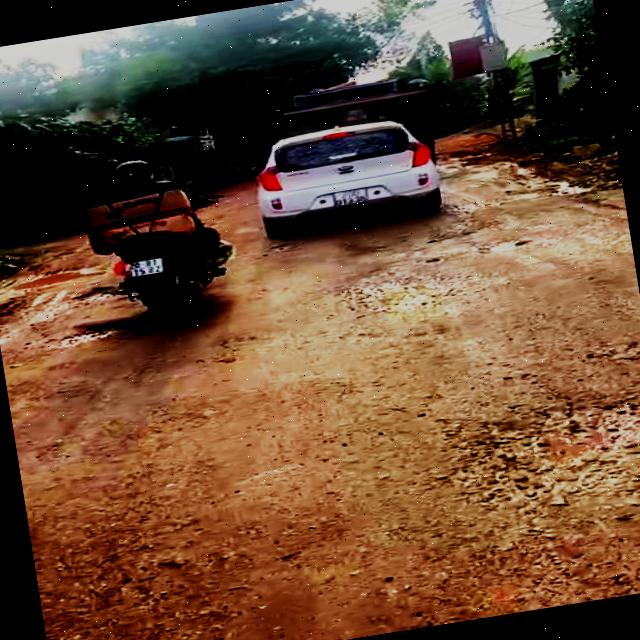pothole: (446, 396, 640, 527)
